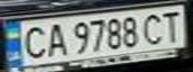7: (87, 17, 109, 52)
8: (121, 14, 145, 48), (106, 15, 127, 51)
9: (69, 18, 90, 55)
A: (42, 20, 69, 57)
C: (18, 24, 51, 60), (139, 10, 169, 46)
T: (157, 7, 187, 43)
